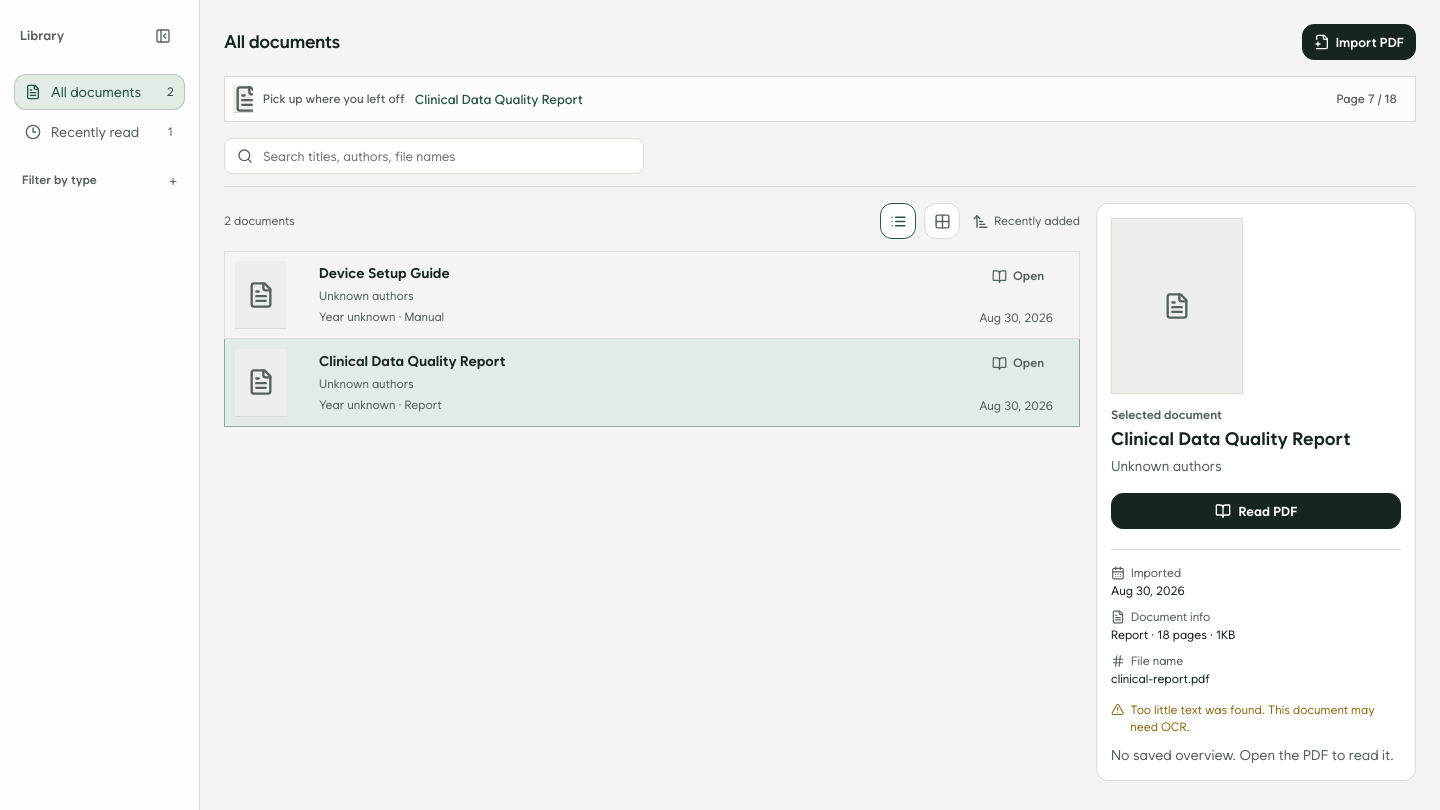
Test case: in English › shows the library home
Check: the button "Import PDF" is shown, box [1302, 24, 1416, 60]
Check: the heading "All documents" is shown, box [224, 29, 340, 55]
Click the heading "Filter by type": (59, 180) [22, 173, 97, 187]
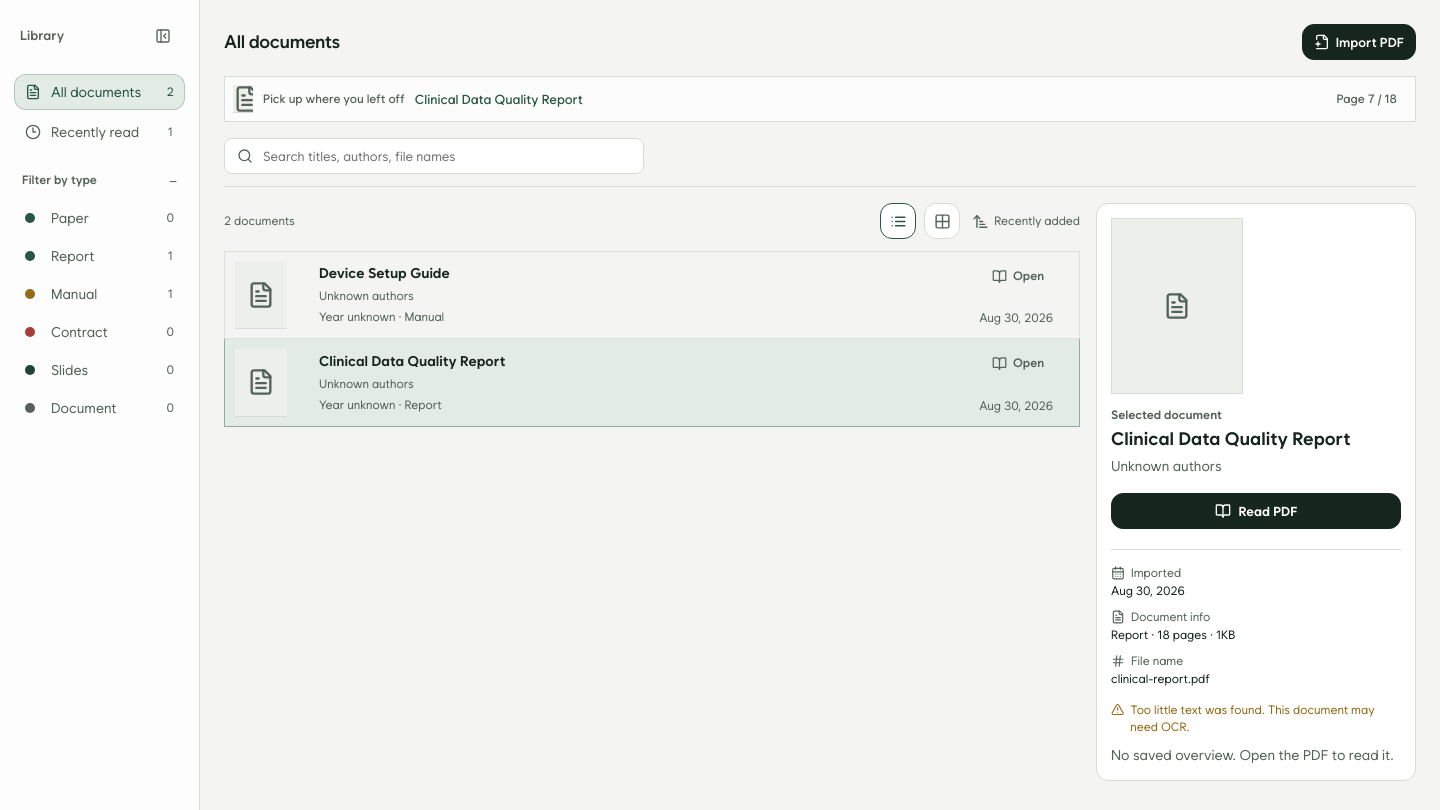
Click the button "Manual 1": (100, 294) [14, 276, 185, 312]
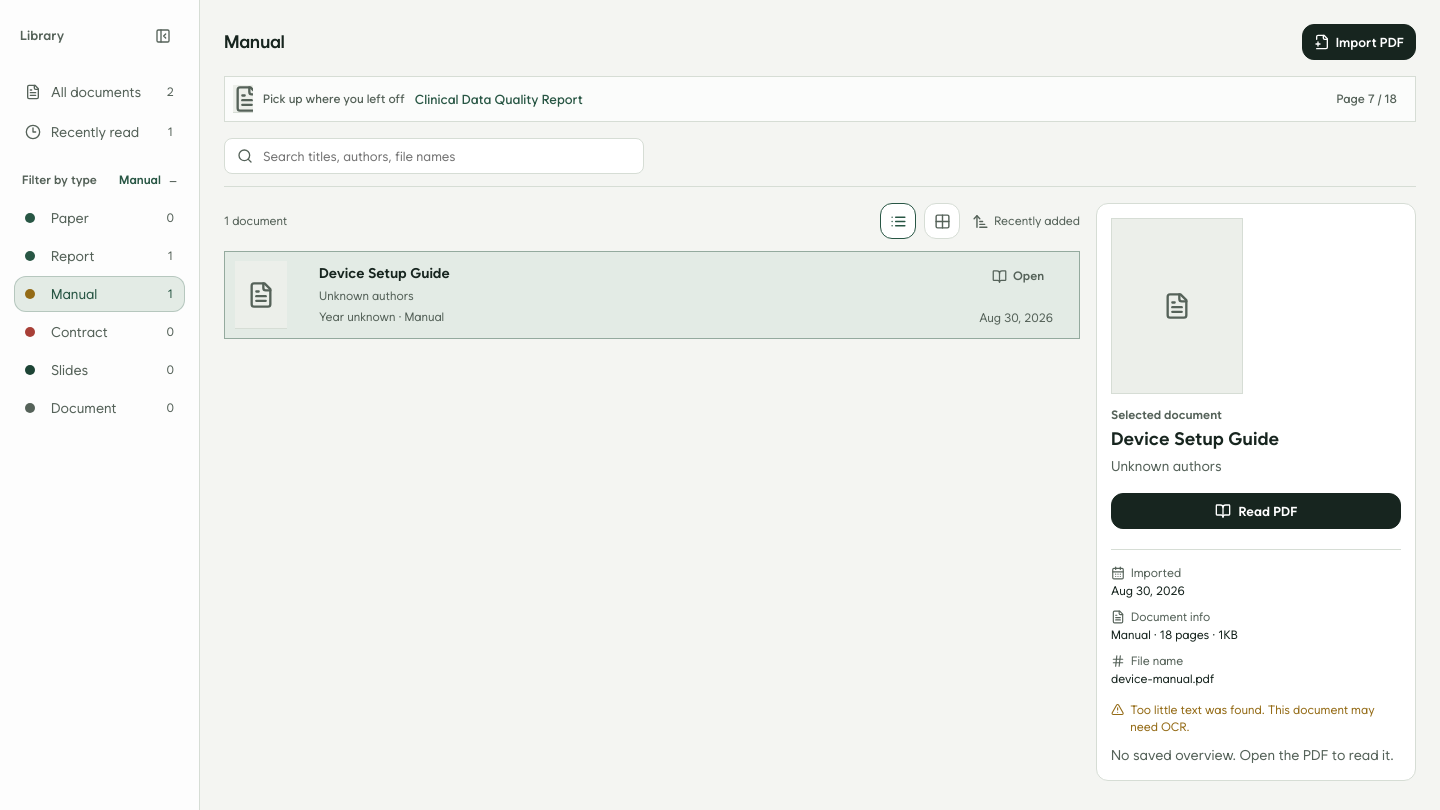
Check: the text "Year unknown · Manual" is shown, box [319, 310, 444, 324]
Check: the heading "Manual" is shown, box [224, 29, 285, 55]
Check: the text "1 document" is shown, box [224, 214, 287, 228]
